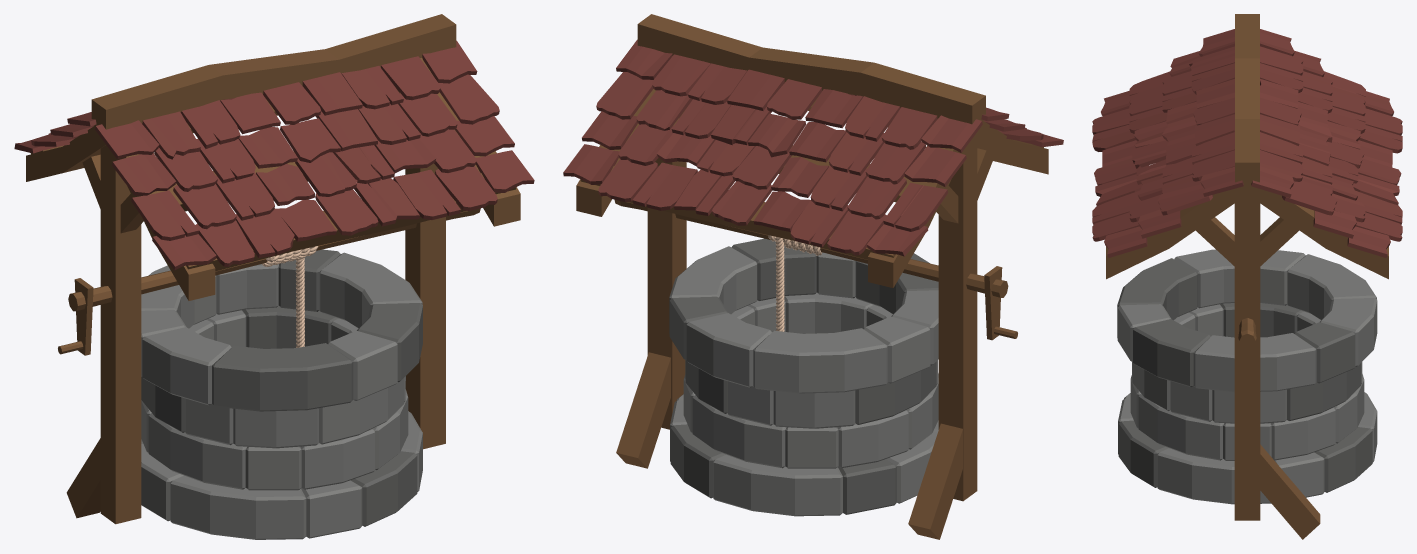
The model's file is well.fbx.
3 renders of one model, left to right at view 1: azimuth 30°, elevation 25°; view 2: azimuth 150°, elevation 25°; view 3: azimuth 270°, elevation 25°, orthographic. The views are drawn at different scales.
Visible parts, largest first — view 1: WellBody.001; view 2: WellBody.001; view 3: WellBody.001.
Part boxes in pixels (x1=…): WellBody.001: x1=14, y1=14, x2=534, y2=539; WellBody.001: x1=563, y1=14, x2=1063, y2=539; WellBody.001: x1=1092, y1=14, x2=1402, y2=539.
Bounding box in the file's own units: 835 × 853 × 619.
